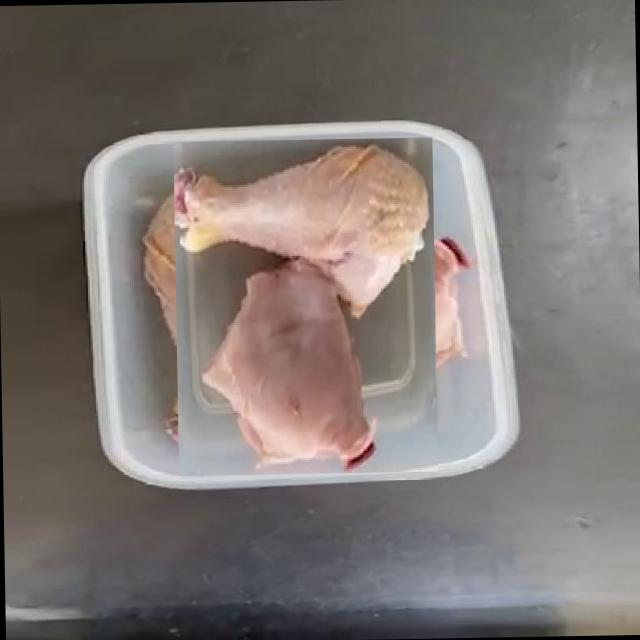chicken: (154, 155, 456, 458)
